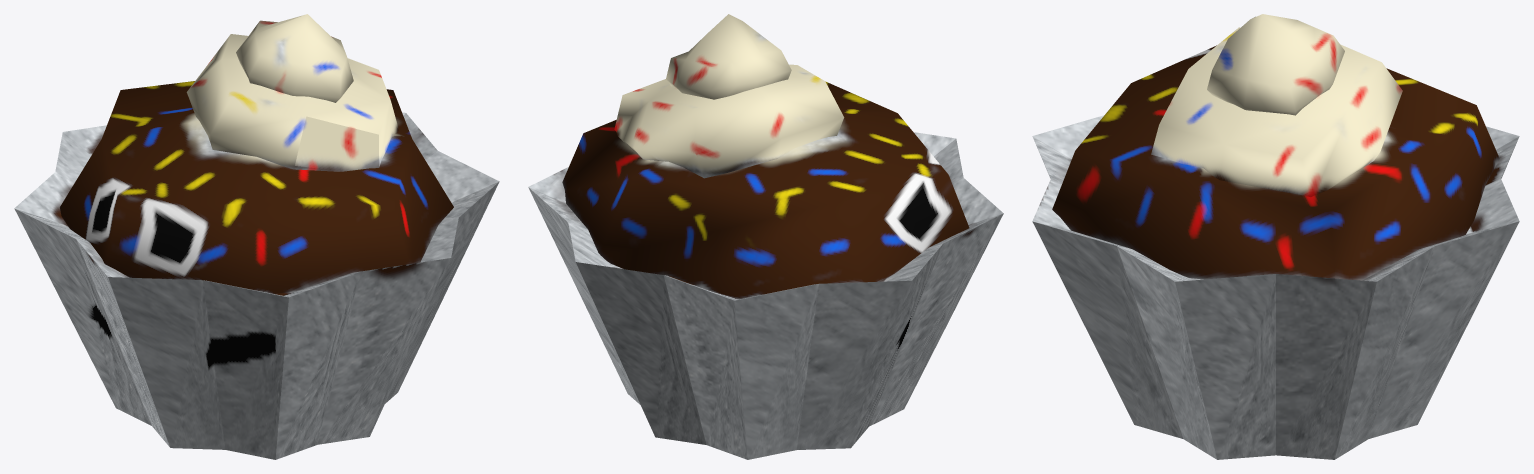
Rendered from animatedCuppy.fbx.
The picture shows the model from 3 angles, left to right: view 1: azimuth 30°, elevation 25°; view 2: azimuth 150°, elevation 25°; view 3: azimuth 270°, elevation 25°; orthographic projection. The views are drawn at different scales.
Visible parts, largest first — view 1: woolcupcake1:pCylinder1; view 2: woolcupcake1:pCylinder1; view 3: woolcupcake1:pCylinder1.
Boxes of the visible parts, left/top/right/bottom form: woolcupcake1:pCylinder1: left=14, top=14, right=499, bottom=459; woolcupcake1:pCylinder1: left=528, top=14, right=1003, bottom=459; woolcupcake1:pCylinder1: left=1032, top=14, right=1519, bottom=459.
Size of the model in its own units: 411 by 381 by 411.
